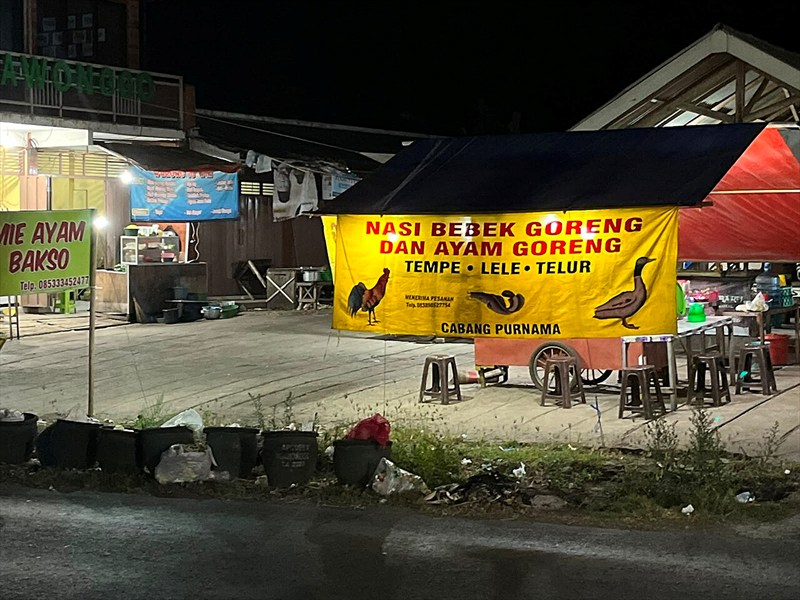Ayam Goreng: (27, 134, 738, 441)
